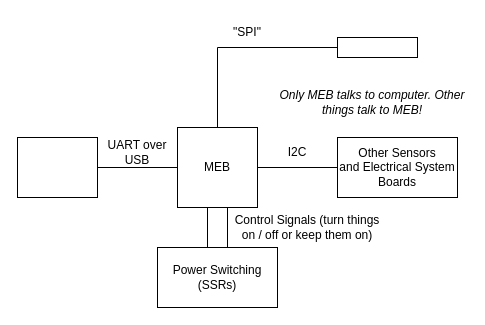
Some shapes in this 485 by 325 pixel diagram are drawn without their labels. Here are the shapes that lost their labels. From the top down, the centre of each, then its label:
At (377,47): "LED Strip".
At (57,167): "Jetson Nano".
